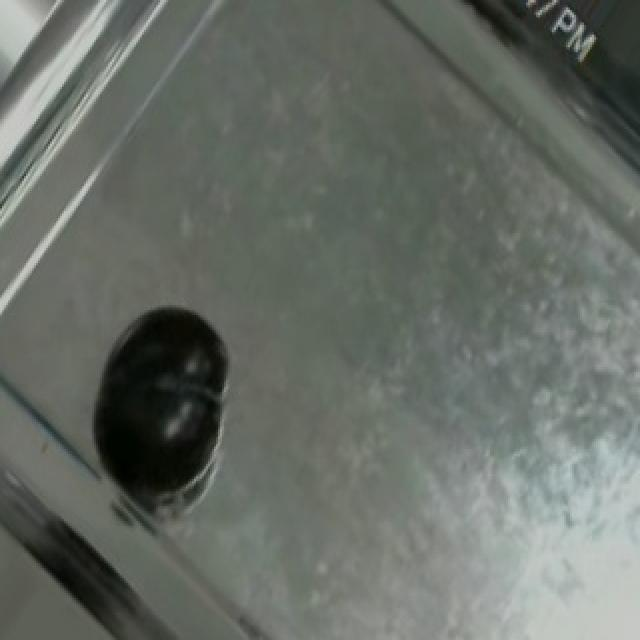Fruit: (74, 298, 240, 523)
